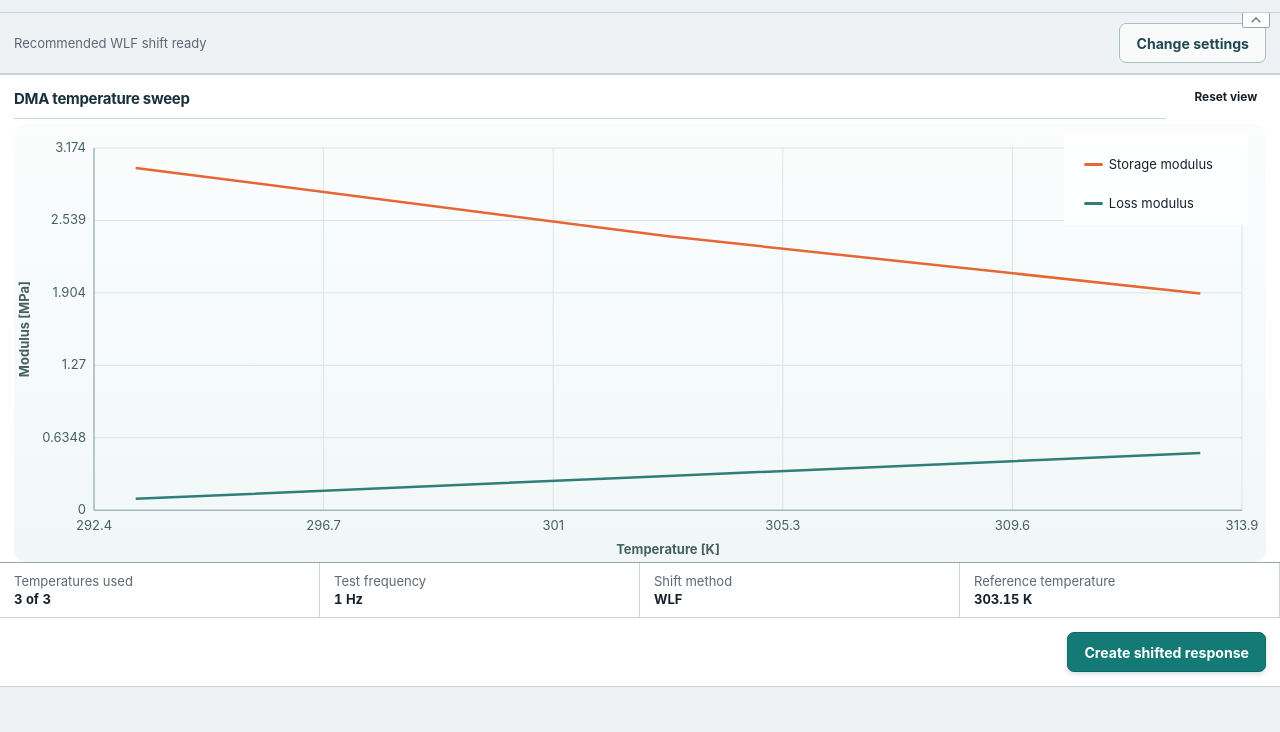
Test: DMA TTS Process workspace › uses the recommendation by default, saves one shifted response, and reloads its Fit input
Expected: the text "Shift method" is shown, top-left (654, 573), bottom-right (732, 589)
Expected: the text "WLF" is shown, top-left (654, 591), bottom-right (682, 607)
Click the button "Create shifted response".
click(1167, 652)  # box top-left (1067, 632), bottom-right (1266, 672)
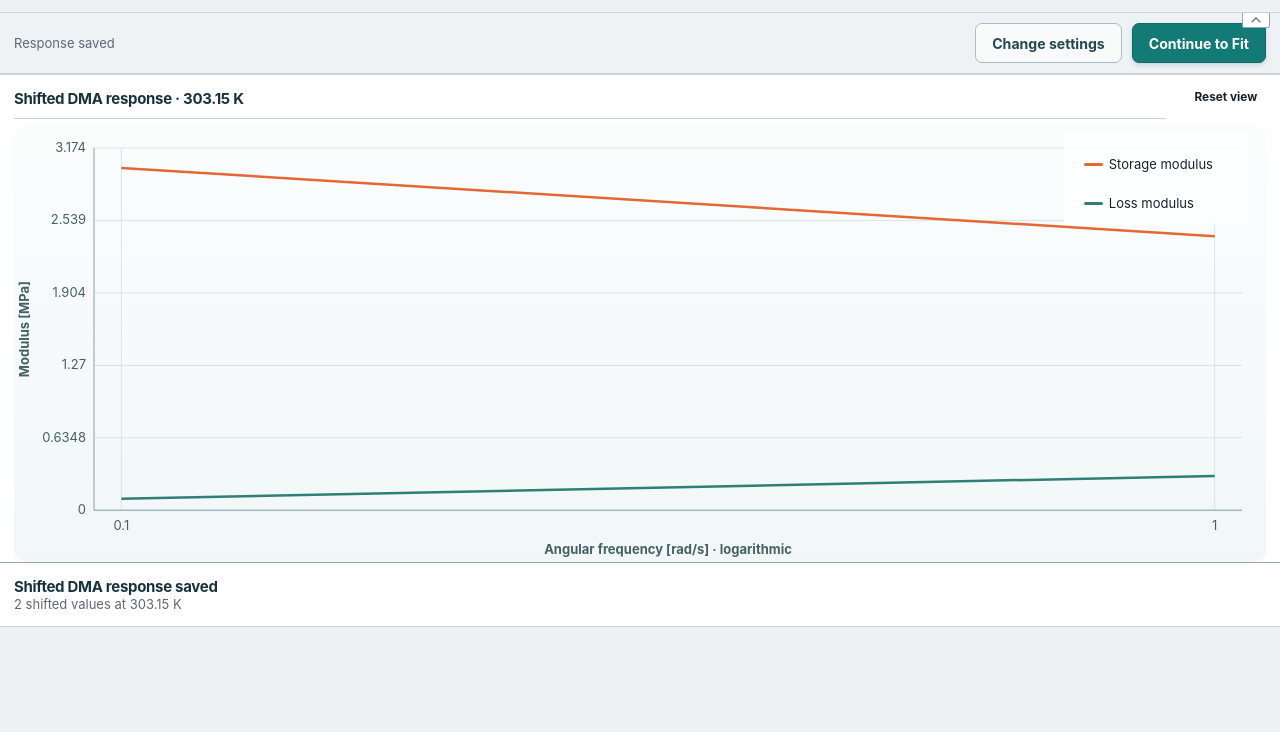
Expected: the heading "Shifted DMA response saved" is shown, top-left (14, 577), bottom-right (218, 596)
